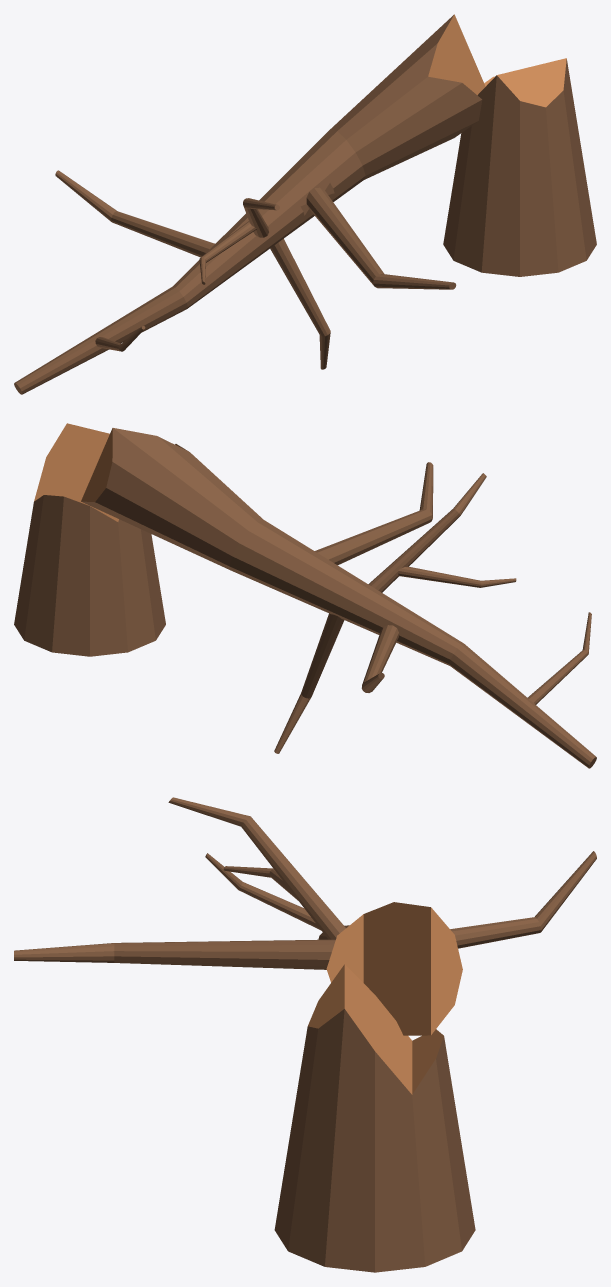
The model's file is DryTree3.fbx.
3 views of the same model, one above another, from view 1: azimuth 30°, elevation 25°; view 2: azimuth 150°, elevation 25°; view 3: azimuth 270°, elevation 25° (orthographic). The views are drawn at different scales.
Parts seen in each view (by area): view 1: Cylinder.004; view 2: Cylinder.004; view 3: Cylinder.004.
Boxes of the visible parts, left/top/right/bottom form: Cylinder.004: left=14, top=14, right=596, bottom=394; Cylinder.004: left=14, top=423, right=596, bottom=768; Cylinder.004: left=14, top=797, right=596, bottom=1272.
Bounding box in the file's own units: 862 × 438 × 580.
